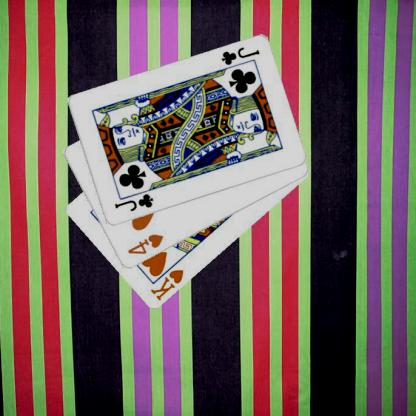4H: (124, 232, 164, 256)
JC: (218, 44, 261, 67), (112, 191, 154, 213)
KH: (147, 266, 185, 302)
